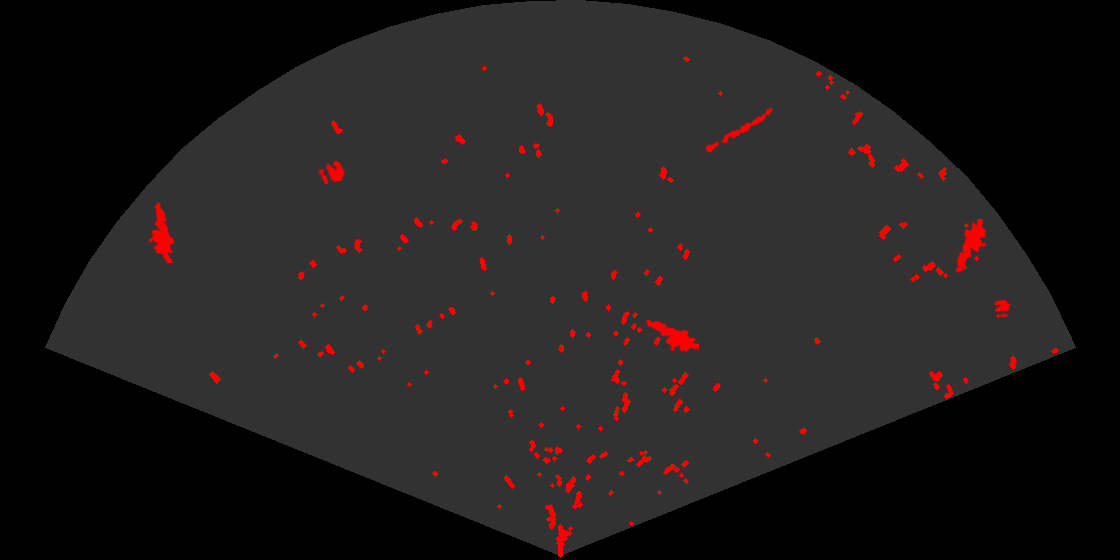ball: (317, 159, 347, 186), (993, 298, 1012, 320)
chain: (701, 106, 774, 156)
frogman: (644, 318, 699, 354), (954, 219, 988, 274), (147, 201, 176, 263)
